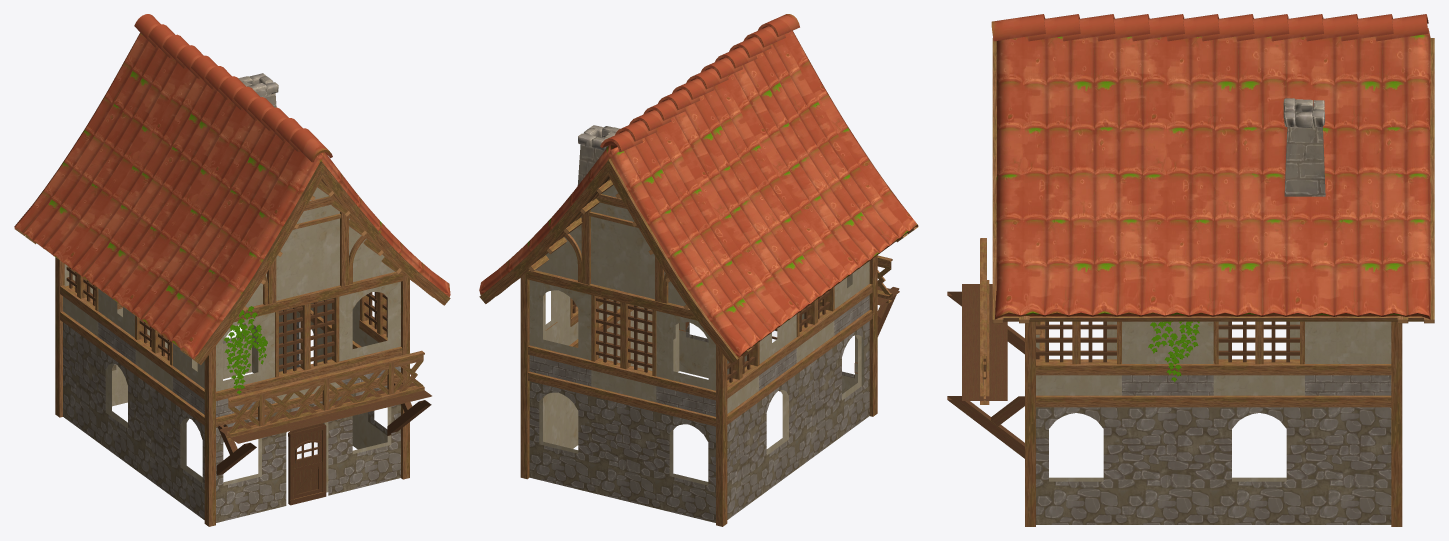
Rendered from med-house.glb.
3 views of the same model, side by side, from view 1: azimuth 30°, elevation 25°; view 2: azimuth 150°, elevation 25°; view 3: azimuth 270°, elevation 25° (orthographic). The views are drawn at different scales.
Parts seen in each view (by area): view 1: med-house; view 2: med-house; view 3: med-house.
Boxes of the visible parts, x1,y1,x2,y2 form: med-house: (14, 14, 450, 526); med-house: (479, 14, 918, 526); med-house: (947, 14, 1434, 526).
Size of the model in its own units: 8.25 by 10.89 by 10.65.
8 materials, 7 textured.
